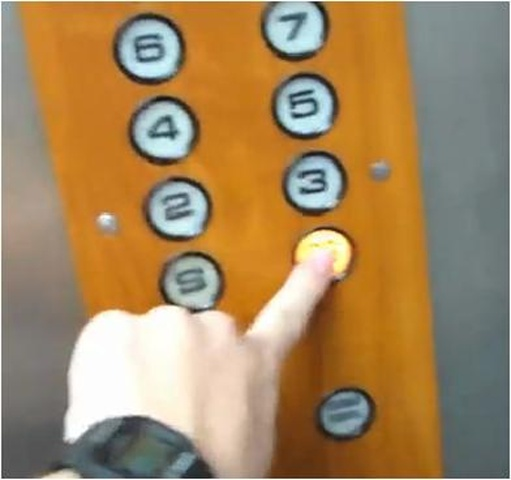2: (142, 174, 213, 243)
3: (279, 149, 350, 218)
4: (124, 93, 202, 166)
5: (269, 70, 340, 141)
6: (111, 10, 186, 86)
7: (257, 1, 330, 63)
S: (155, 247, 228, 313)
text_blur: (317, 386, 377, 443)
